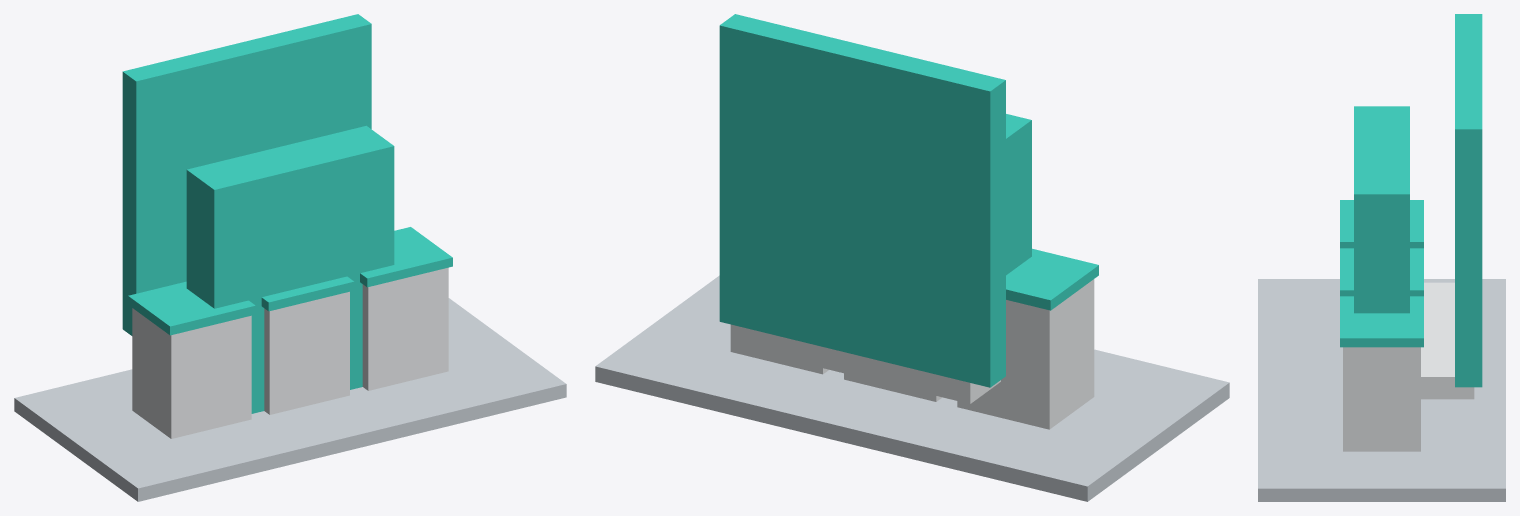
3 views of the same model, side by side, from view 1: azimuth 30°, elevation 25°; view 2: azimuth 150°, elevation 25°; view 3: azimuth 270°, elevation 25° (orthographic). The views are drawn at different scales.
Visible parts, largest first — view 1: Exhibition Booth Concept; view 2: Exhibition Booth Concept; view 3: Exhibition Booth Concept.
Boxes of the visible parts, x1=… form: Exhibition Booth Concept: x1=14, y1=14, x2=566, y2=501; Exhibition Booth Concept: x1=595, y1=14, x2=1229, y2=501; Exhibition Booth Concept: x1=1258, y1=14, x2=1505, y2=501.
Size of the model in its own units: 4 by 2.9 by 2.
